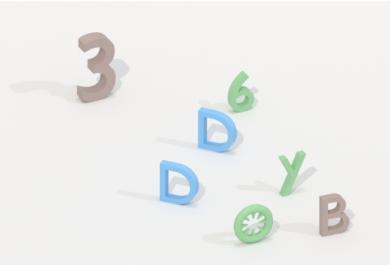0-TronLo: (232, 201, 274, 248)
3: (73, 30, 118, 106)
6: (224, 67, 258, 116)
B: (314, 190, 353, 241)
D: (193, 102, 239, 156), (157, 157, 201, 208)
y: (275, 146, 308, 199)
